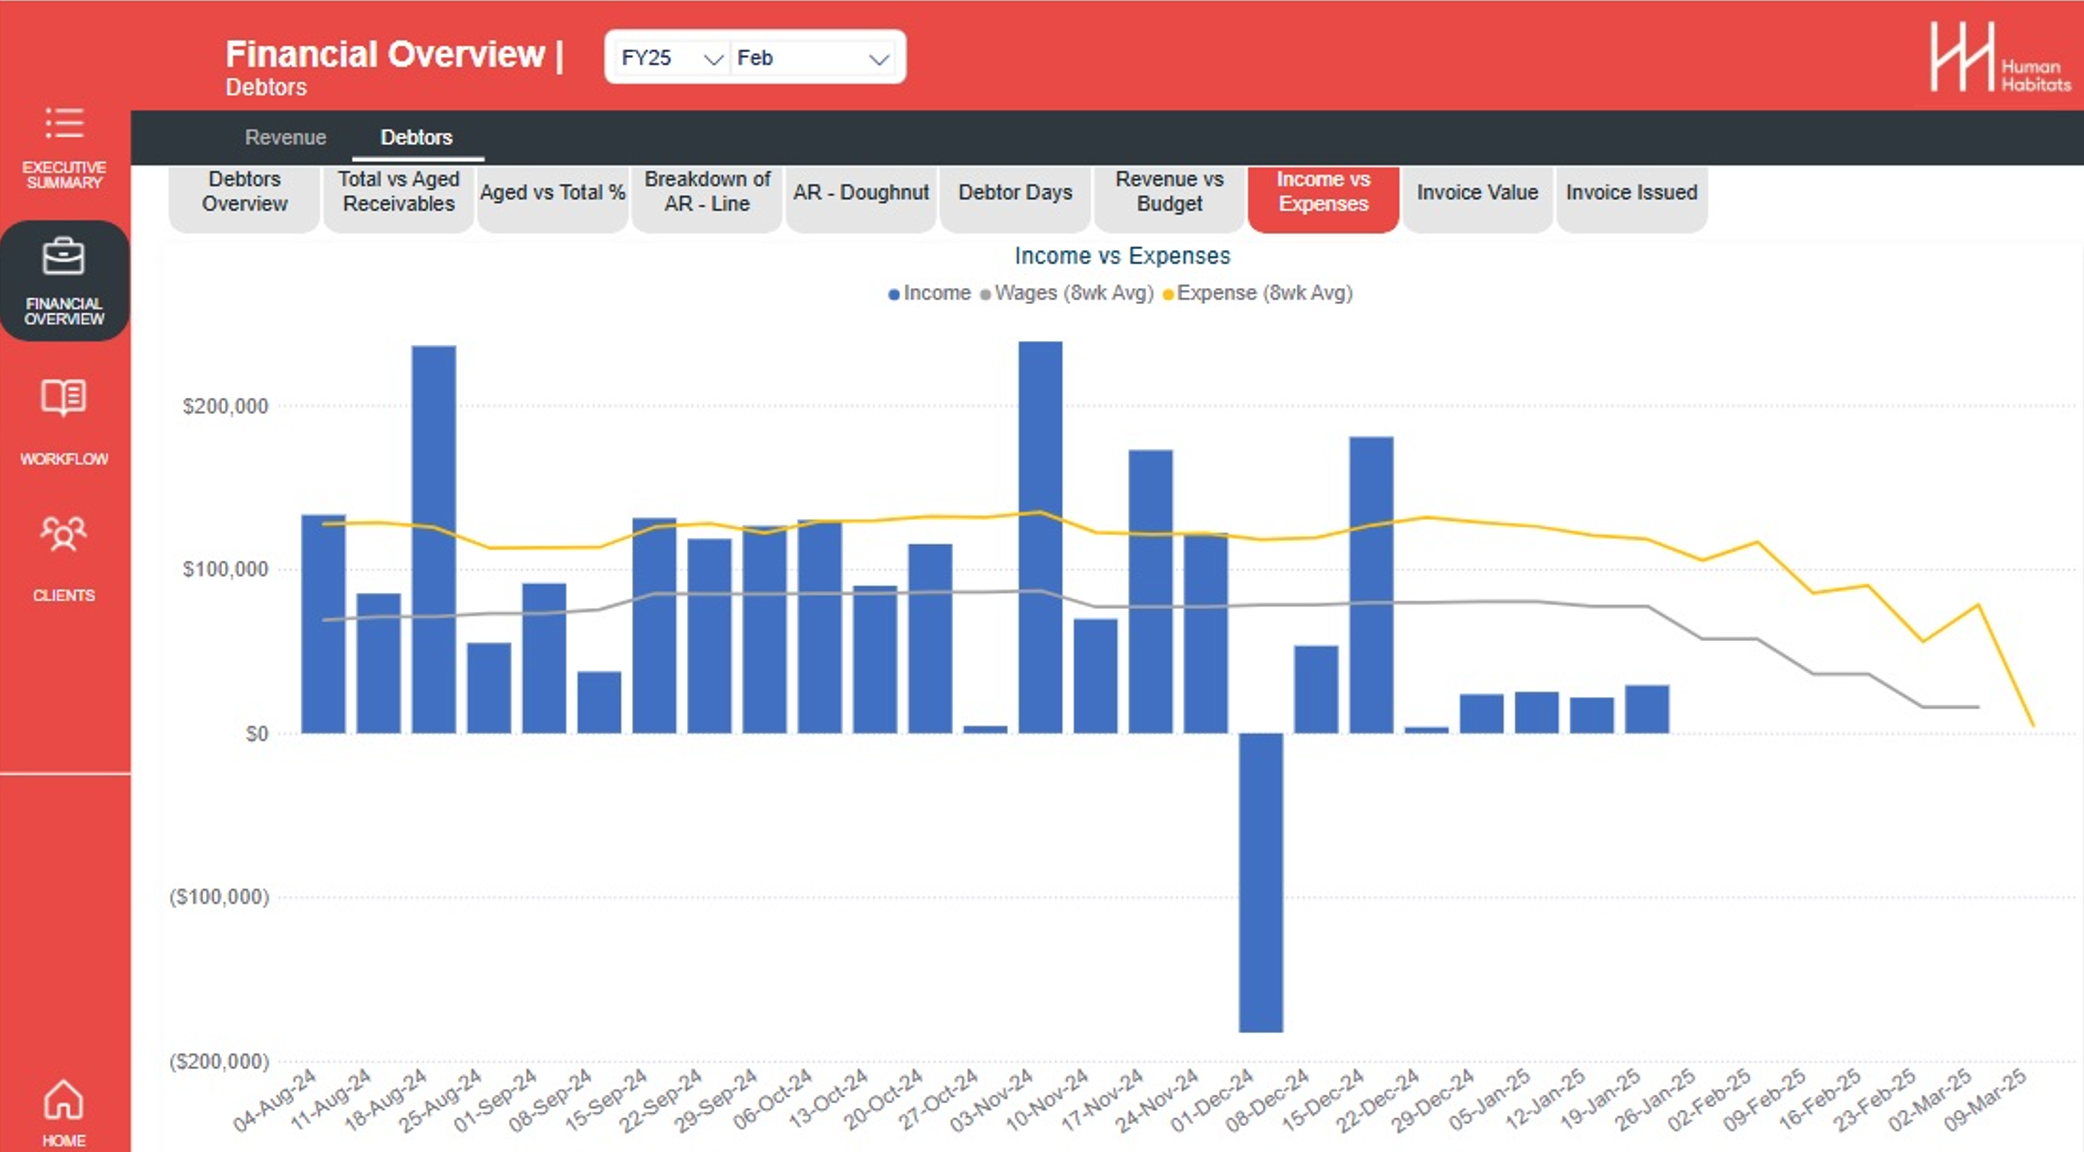

Layout of this report page (visuals, bound fields, positions):
{"tool":"powerbi","page":{"name":"Financial Overview","canvas":[1280,720],"ordinal":0},"visuals":[{"type":"lineClusteredColumnComboChart","fields":{"Category":["Dates.Date.Variation.Date Hierarchy.Month"],"Y":["Sum(Income.Total)"],"Y2":["Sum(Expenses.8-Week Moving Avg)","Sum(Wages_Salaries.8-Week Moving Avg)"]},"box":[19.2,199,1241.9,499.5],"z":0},{"type":"slicer","fields":{"Values":["Dates.Date"]},"box":[915.3,39.8,345.8,127.6],"z":1000}]}

Visuals, with their boxes on the page's 1280x720 design canvas (x1, y1, x2, y2). These are canvas units, not pixel positions in the 2084x1152 screenshot, which may show the page scaled, cropped or inside an application window:
lineClusteredColumnComboChart - Dates.Date.Variation.Date Hierarchy.Month x Sum(Income.Total): locate(19, 199, 1261, 698)
slicer - Dates.Date: locate(915, 40, 1261, 167)
